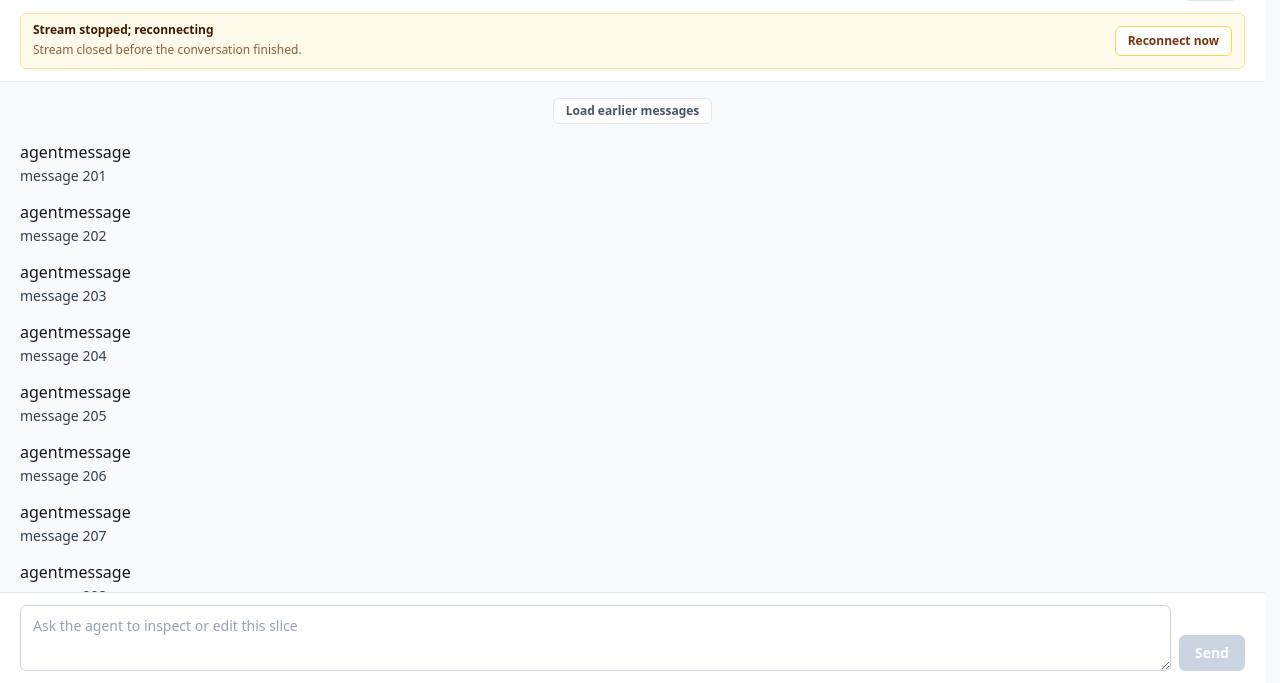
Scenario: AgentConversation › pages older messages in from the top when the first load is a full page
This screenshot has width=1280, height=683.
Check: the text "the oldest question" is not shown
Click the button "Load earlier messages". click: (633, 111)
box: [553,98,712,124]
(page scrolled)
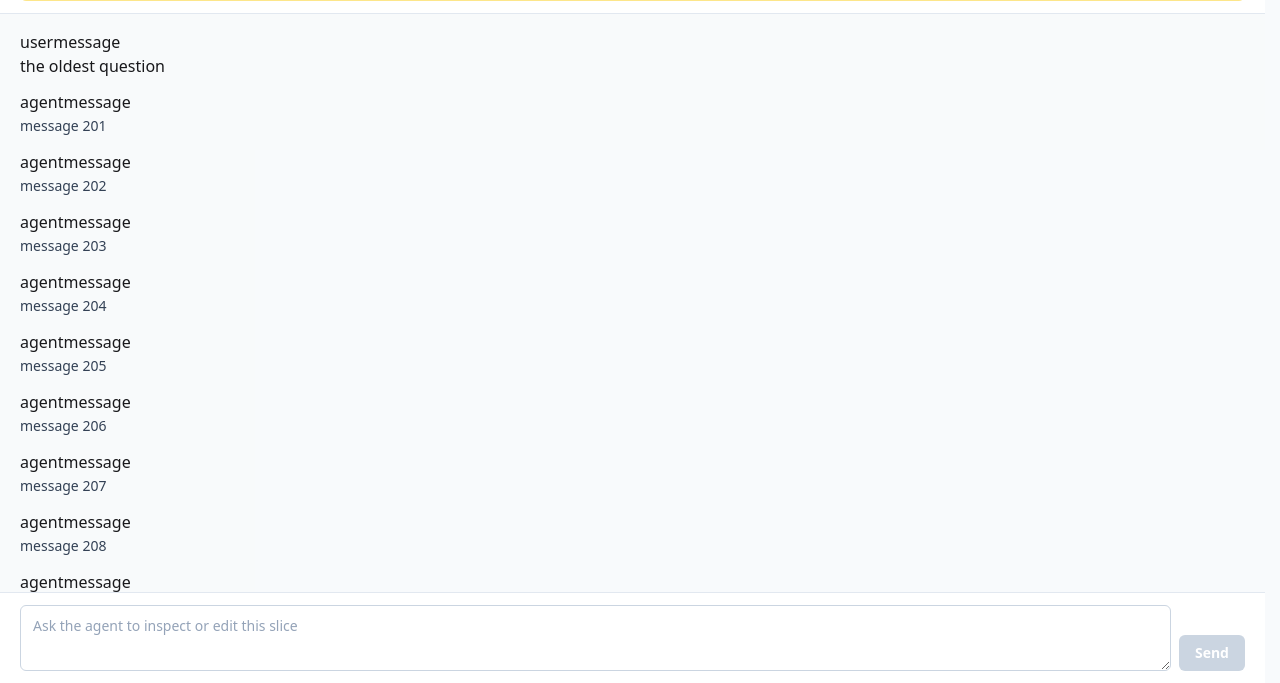
Check: the text "the oldest question" is shown, box [20,55,165,77]
Check: the button "Load earlier messages" is gone
